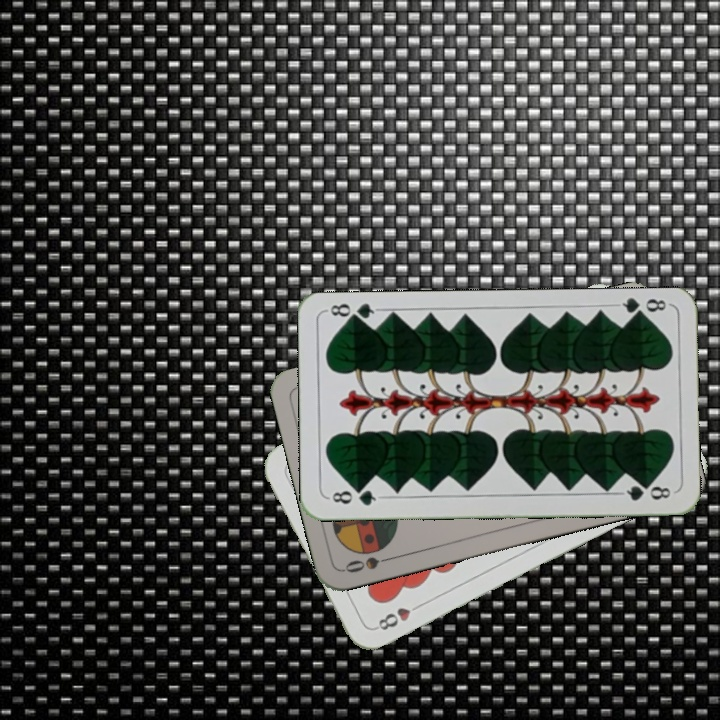G8: (612, 295, 671, 322), (325, 485, 384, 509)
H8: (370, 599, 425, 633)
SO: (341, 551, 399, 576)
